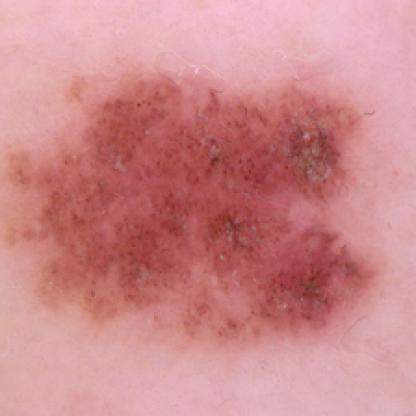benign: (34, 59, 384, 342)
